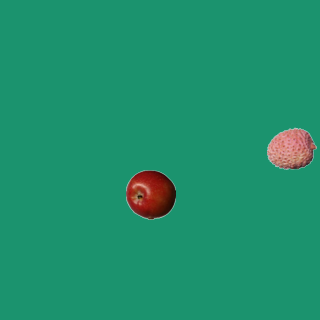Apple Braeburn: (125, 169, 175, 219)
Lychee: (266, 123, 316, 173)
